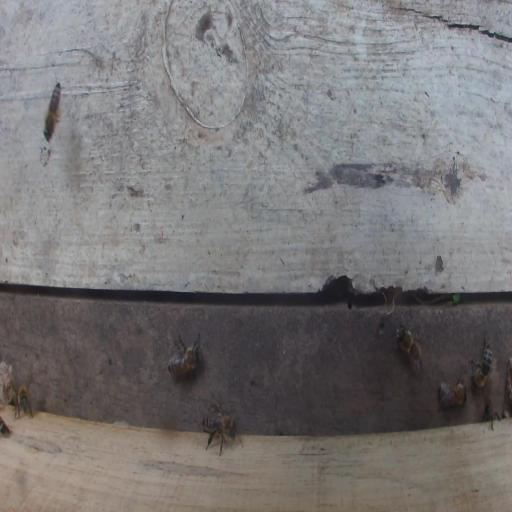nonpollenbee: (202, 402, 242, 457), (167, 334, 200, 381), (395, 323, 424, 375), (469, 334, 492, 390), (437, 374, 468, 409), (14, 383, 34, 420), (481, 399, 501, 430)
pollenbee: (41, 76, 64, 146)
